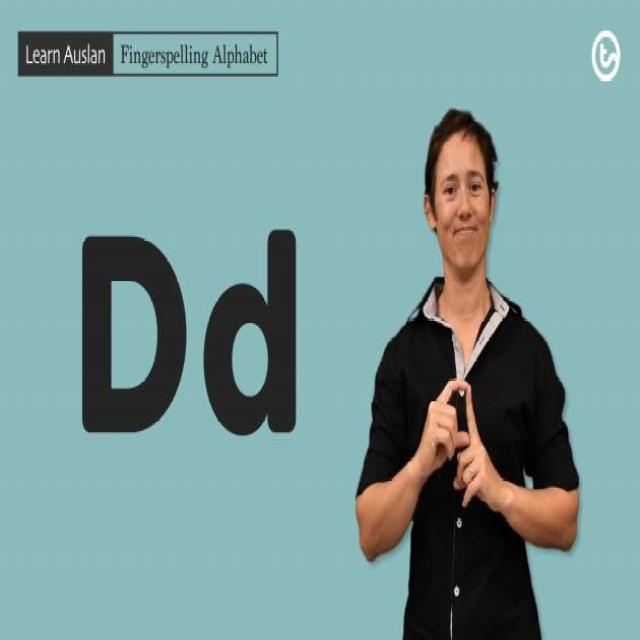D: (426, 378, 491, 515)
